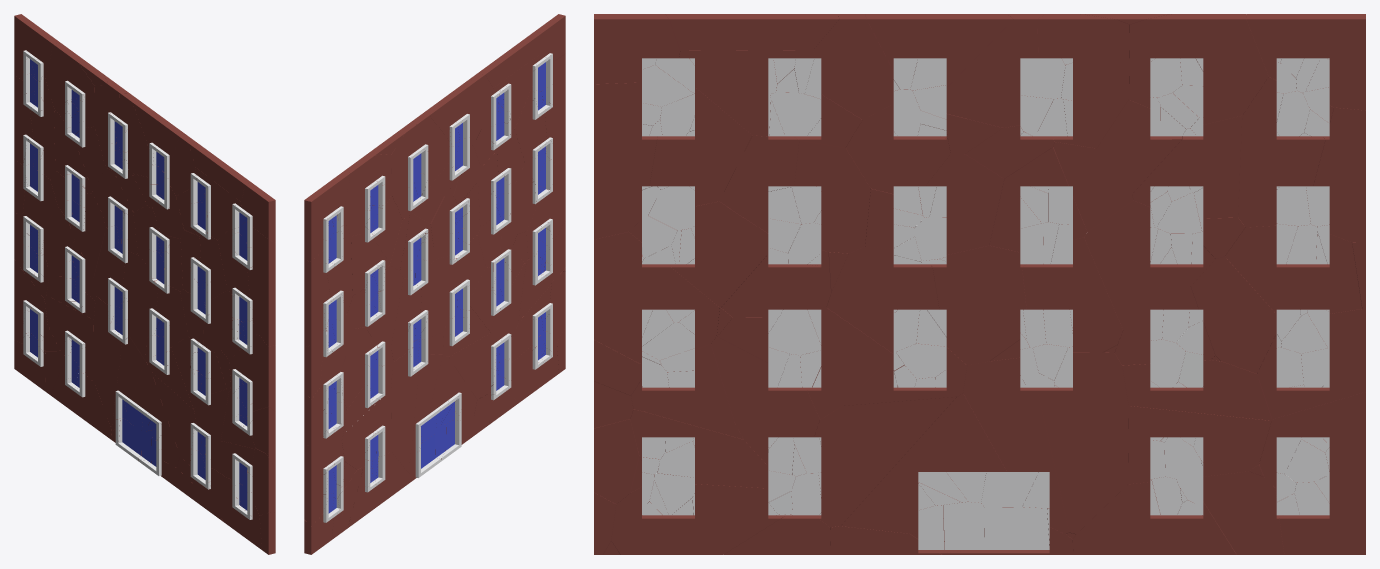
The model's file is wall01,02_Bx.fbx.
3 views of the same model, side by side, from view 1: azimuth 30°, elevation 25°; view 2: azimuth 150°, elevation 25°; view 3: azimuth 270°, elevation 25° (orthographic). The views are drawn at different scales.
Parts seen in each view (by area): view 1: wall02_B.001_cell.045, wall02_B.001_cell.069, wall02_B.001_cell.042, wall02_B.001_cell.016, wall02_B.001_cell.035, wall02_B.001_cell.050, wall02_B.001_cell.015, wall02_B.001_cell.043, wall02_B.001_cell.029, wall02_B.001_cell.062, wall02_B.001_cell.057, wall02_B.001_cell.036 (+70 smaller); view 2: wall02_B.001_cell.069, wall02_B.001_cell.042, wall02_B.001_cell.062, wall02_B.001_cell.073, wall02_B.001_cell.035, wall02_B.001_cell.050, wall02_B.001_cell.054, wall02_B.001_cell.043, wall02_B.001_cell.057, wall02_B.001_cell.015, wall02_B.001_cell.016, wall02_B.001_cell.045 (+61 smaller); view 3: wall02_B.001_cell.069, wall02_B.001_cell.042, wall02_B.001_cell.057, wall02_B.001_cell.016, wall02_B.001_cell.035, wall02_B.001_cell.015, wall02_B.001_cell.059, wall02_B.001_cell.029, wall02_B.001_cell.045, wall02_B.001_cell.010, wall02_B.001_cell.049, wall02_B.001_cell.023 (+88 smaller).
Boxes of the visible parts, box(x1,y1,x2,y2) form: wall02_B.001_cell.045: box(247, 227, 275, 346); wall02_B.001_cell.069: box(93, 297, 121, 428); wall02_B.001_cell.042: box(46, 43, 94, 127); wall02_B.001_cell.016: box(229, 334, 275, 411); wall02_B.001_cell.035: box(123, 251, 158, 338); wall02_B.001_cell.050: box(44, 295, 93, 381); wall02_B.001_cell.015: box(207, 468, 261, 549); wall02_B.001_cell.043: box(50, 361, 111, 439); wall02_B.001_cell.029: box(131, 361, 179, 467); wall02_B.001_cell.062: box(14, 14, 60, 79); wall02_B.001_cell.057: box(151, 372, 196, 465); wall02_B.001_cell.036: box(119, 93, 149, 177); wall02_B.001_cell.069: box(391, 352, 419, 472); wall02_B.001_cell.042: box(343, 147, 391, 236); wall02_B.001_cell.062: box(304, 171, 350, 261); wall02_B.001_cell.073: box(304, 441, 344, 526); wall02_B.001_cell.035: box(420, 255, 455, 338); wall02_B.001_cell.050: box(342, 390, 391, 469); wall02_B.001_cell.054: box(304, 251, 330, 346); wall02_B.001_cell.043: box(348, 452, 408, 527); wall02_B.001_cell.057: box(449, 333, 493, 399); wall02_B.001_cell.015: box(504, 339, 558, 401); wall02_B.001_cell.016: box(526, 160, 565, 259); wall02_B.001_cell.045: box(545, 53, 565, 163); wall02_B.001_cell.069: box(1037, 352, 1128, 534); wall02_B.001_cell.042: box(1129, 14, 1268, 124); wall02_B.001_cell.057: box(814, 397, 956, 527); wall02_B.001_cell.016: box(594, 232, 719, 364); wall02_B.001_cell.035: box(930, 245, 1026, 365); wall02_B.001_cell.015: box(611, 484, 785, 554); wall02_B.001_cell.059: box(1037, 14, 1129, 148); wall02_B.001_cell.029: box(841, 393, 1006, 533); wall02_B.001_cell.045: box(594, 82, 657, 239); wall02_B.001_cell.010: box(963, 357, 1069, 533); wall02_B.001_cell.049: box(1084, 200, 1215, 329); wall02_B.001_cell.023: box(1225, 225, 1361, 313).
Size of the model in its own units: 36.44 by 1218 by 1591.
